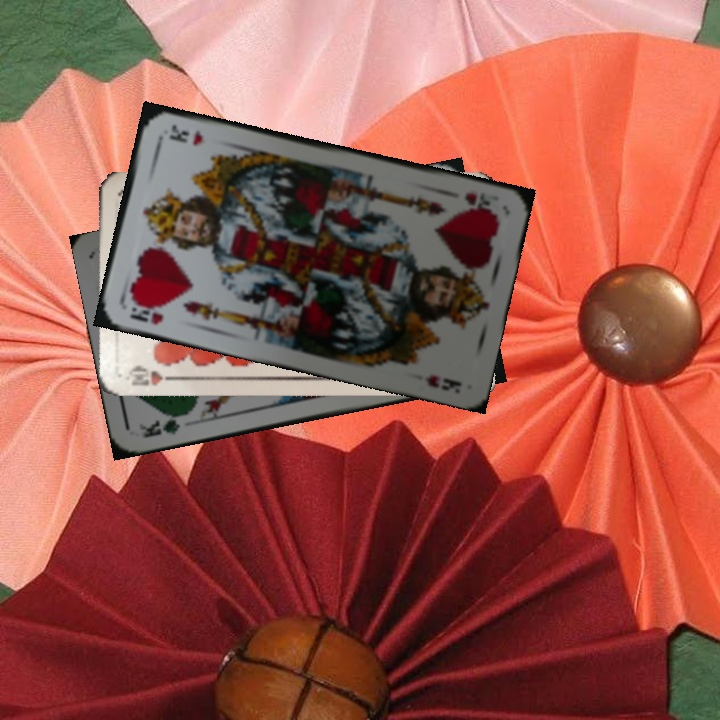GK: (134, 409, 190, 440)
H10: (122, 363, 181, 389)
HK: (125, 296, 166, 328), (461, 187, 501, 217)
